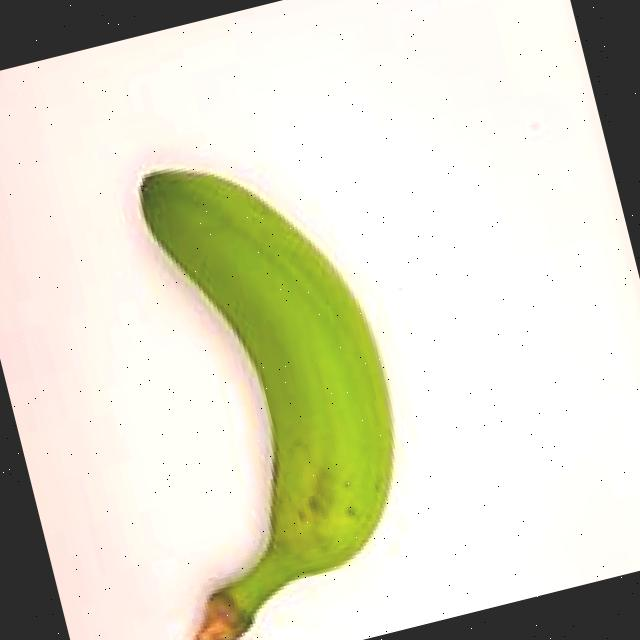Raw: (51, 73, 469, 640)
